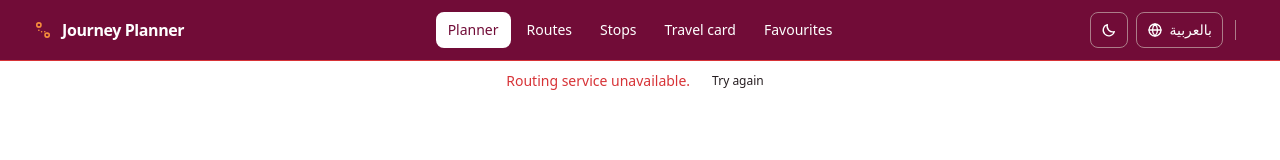
Test: AppHeader › clears once a retry finds the service answering again
expect the message "Routing service unavailable. Try again" is shown: met, box [0,60,1279,101]
Click the button "Try again" at (738, 81), box [702,69,774,93]
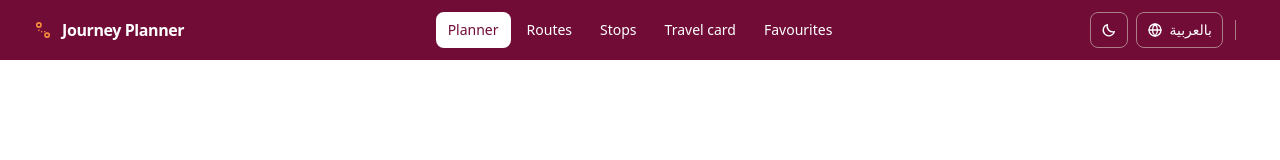
expect the message "Routing service unavailable. Try again" is gone: met
